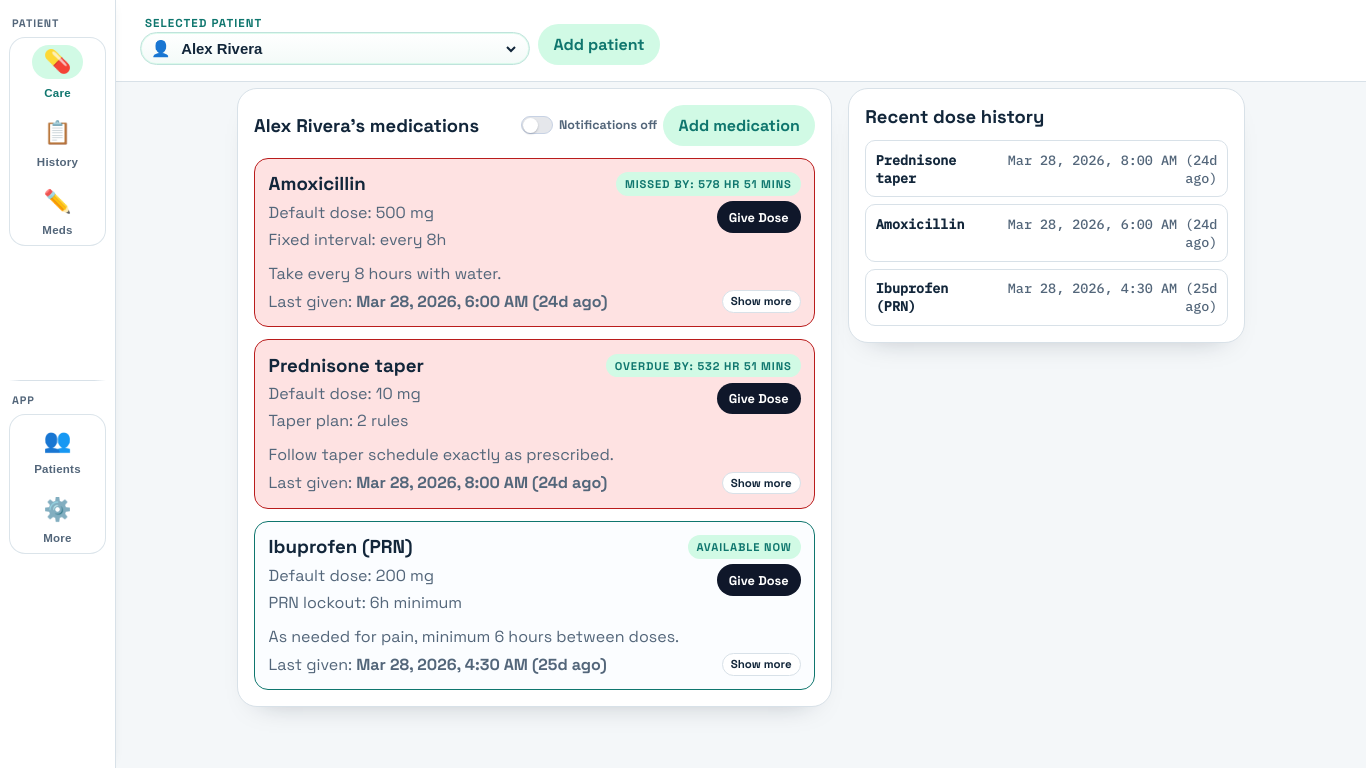
it: App workspace mode flow › signed-out user can request a password reset email
Step 1. Click the button with test id "tab-more" → point(58, 518), box [12,486,103,551]
(page scrolled)
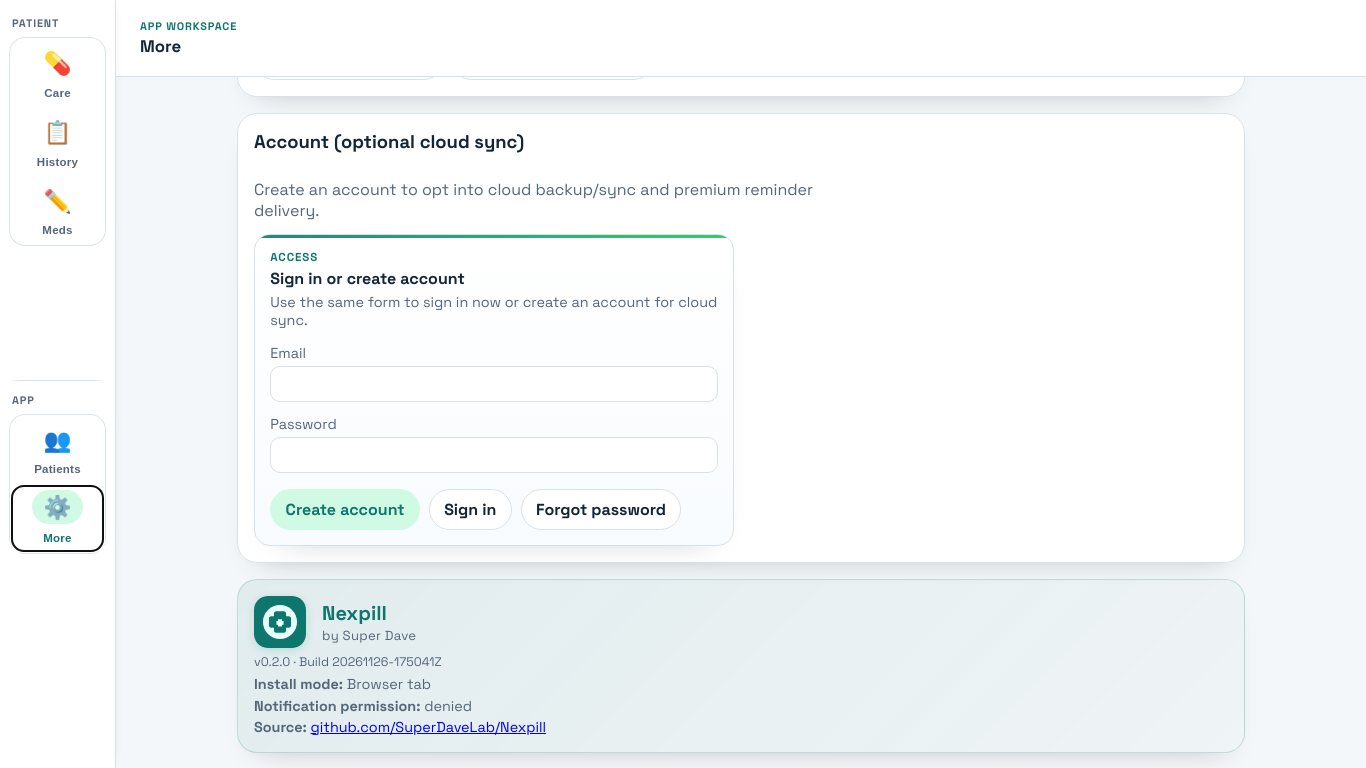
Step 2. Type "caregiver@example.com" into the field with test id "auth-email-input" → point(494, 384), box [270,366,718,402]
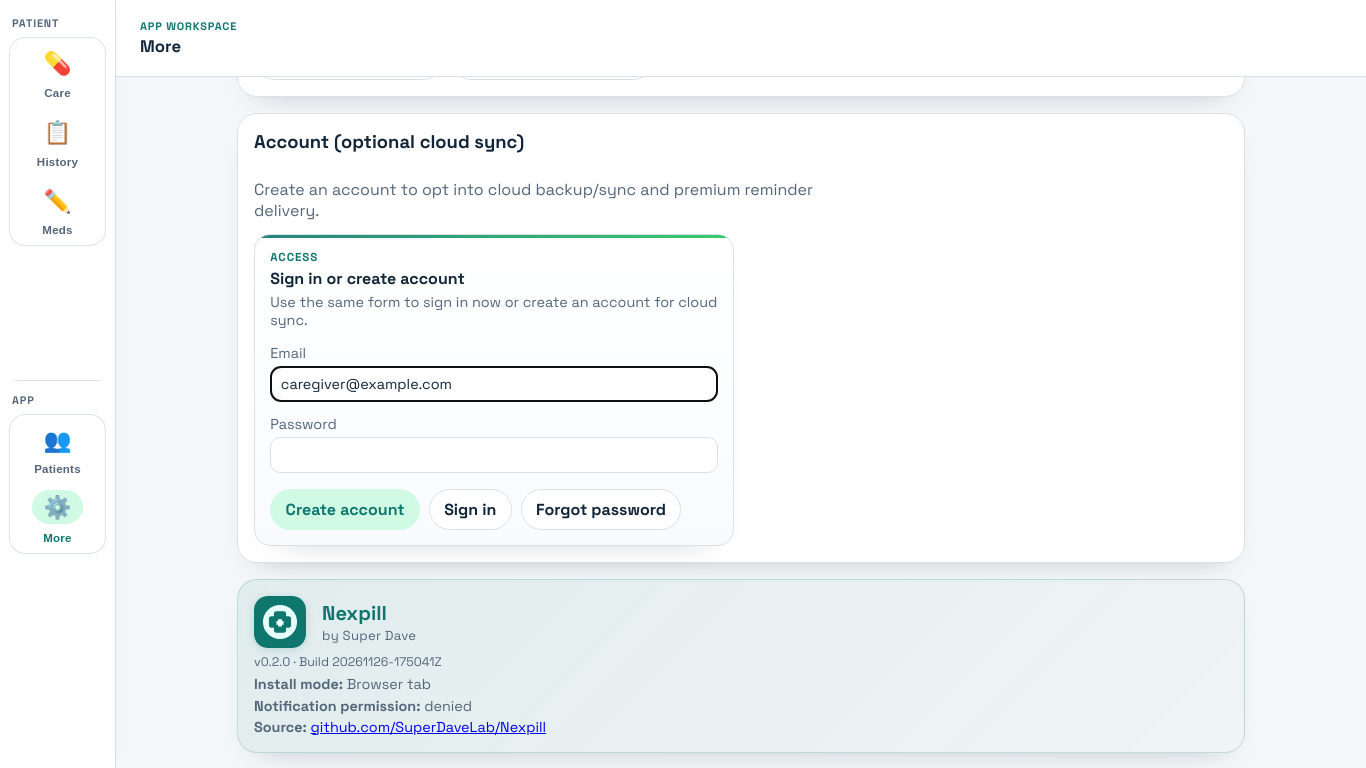
Step 3. Click the button with test id "forgot-password-button" → point(601, 510), box [520,489,681,530]
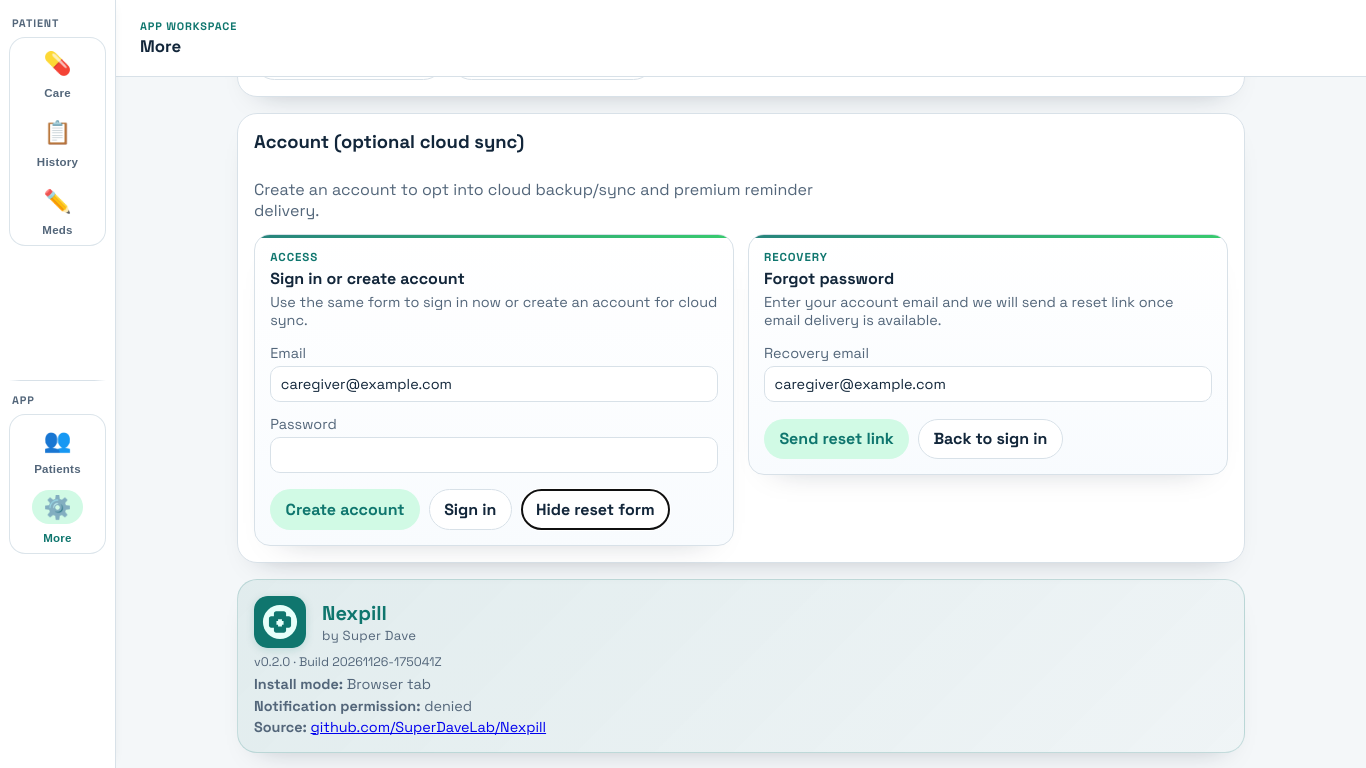
Step 4. Click the button with test id "request-password-reset-button" → point(837, 439), box [764,419,909,459]
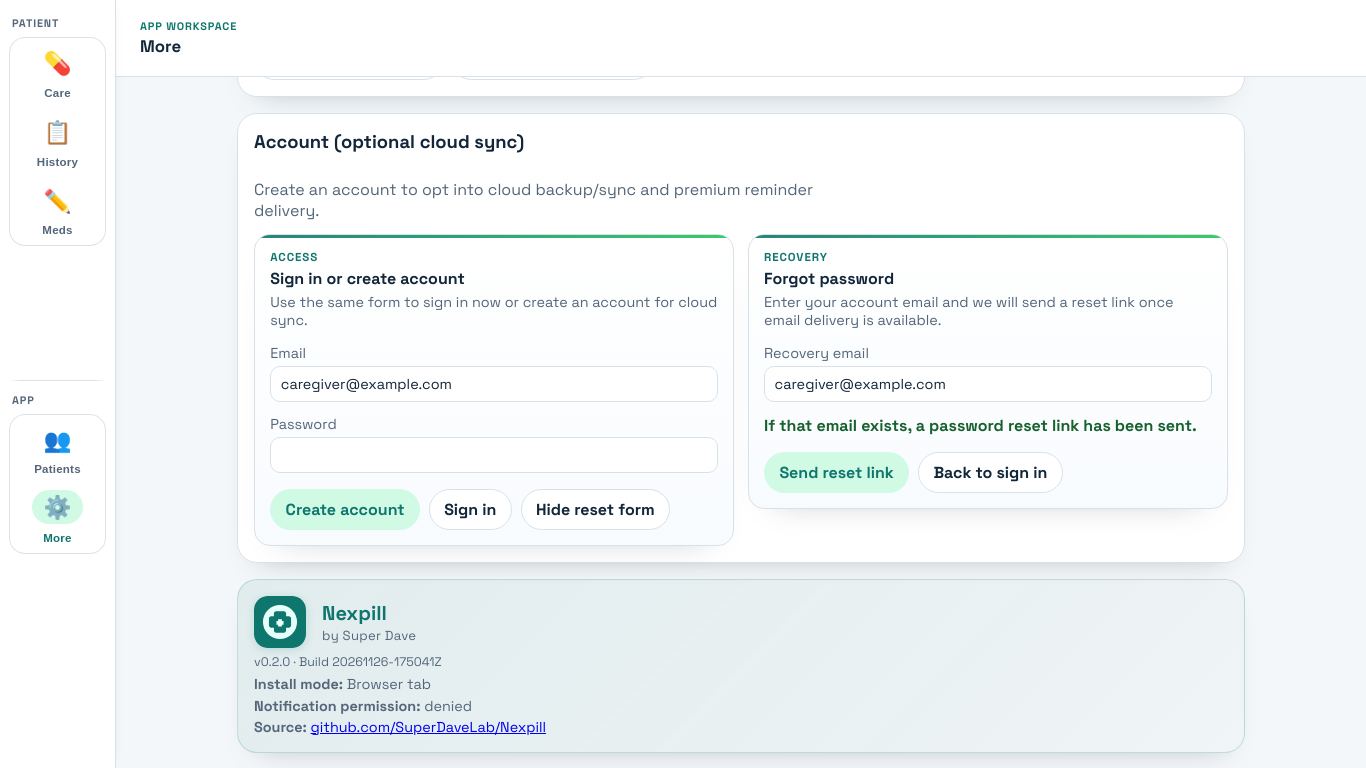
Result: the text "If that email exists, a password reset link has been sent." is shown at [764,415,1212,436]
